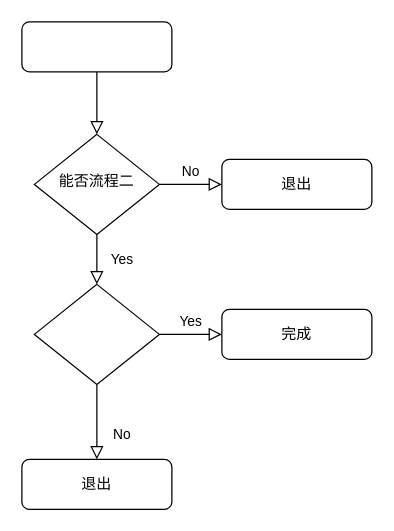
Some shapes in this 394 by 531 pixel diagram are drawn without their labels. The shapes that lost their labels are listed below. From the top down, each one's centre as x and y in pixels, then its label:
pixel 96 46: 流程1
pixel 96 333: 能否流程三
